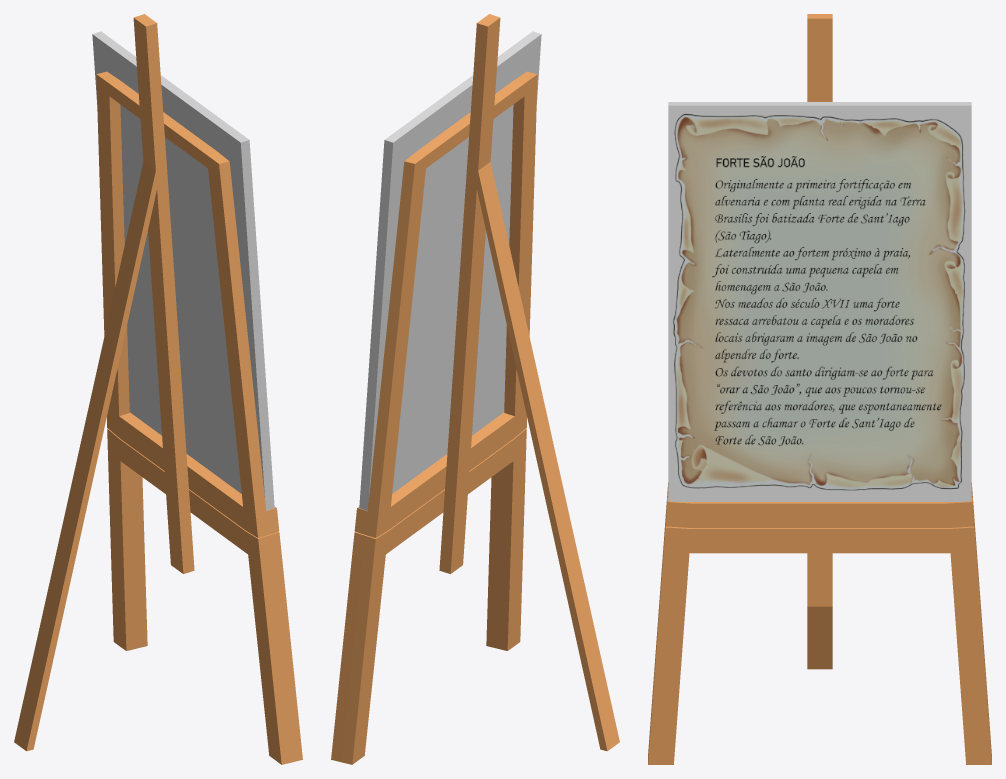
Rendered from Cavalete.fbx.
The picture shows the model from 3 angles, left to right: view 1: azimuth 30°, elevation 25°; view 2: azimuth 150°, elevation 25°; view 3: azimuth 270°, elevation 25°; orthographic projection. The views are drawn at different scales.
Parts seen in each view (by area): view 1: Cavalete trás; view 2: Cavalete trás; view 3: Cavalete trás.
Boxes of the visible parts, box(x1,y1,x2,y2) form: Cavalete trás: box(14, 14, 302, 764); Cavalete trás: box(331, 14, 619, 764); Cavalete trás: box(648, 14, 991, 764).
Bounding box in the file's own units: 189 × 631 × 276.
